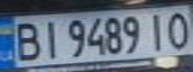4: (84, 15, 106, 56)
8: (103, 13, 127, 55)
9: (63, 16, 87, 58), (121, 12, 145, 54)
B: (6, 18, 45, 62)
I: (142, 10, 172, 52), (36, 17, 63, 60)
O: (160, 8, 193, 50)
